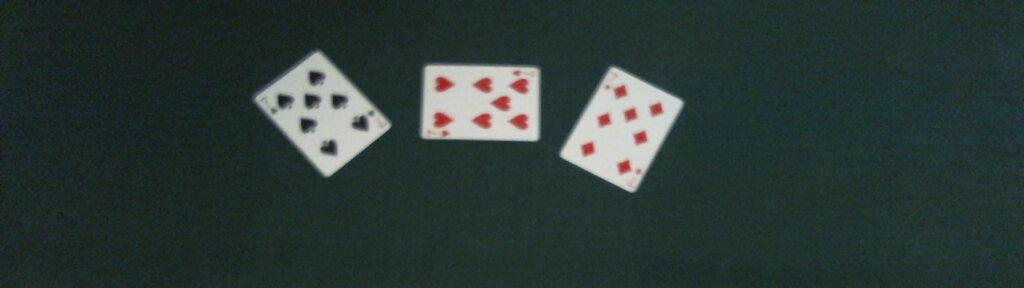seven: (251, 51, 391, 178), (558, 66, 684, 192), (418, 61, 541, 142)
